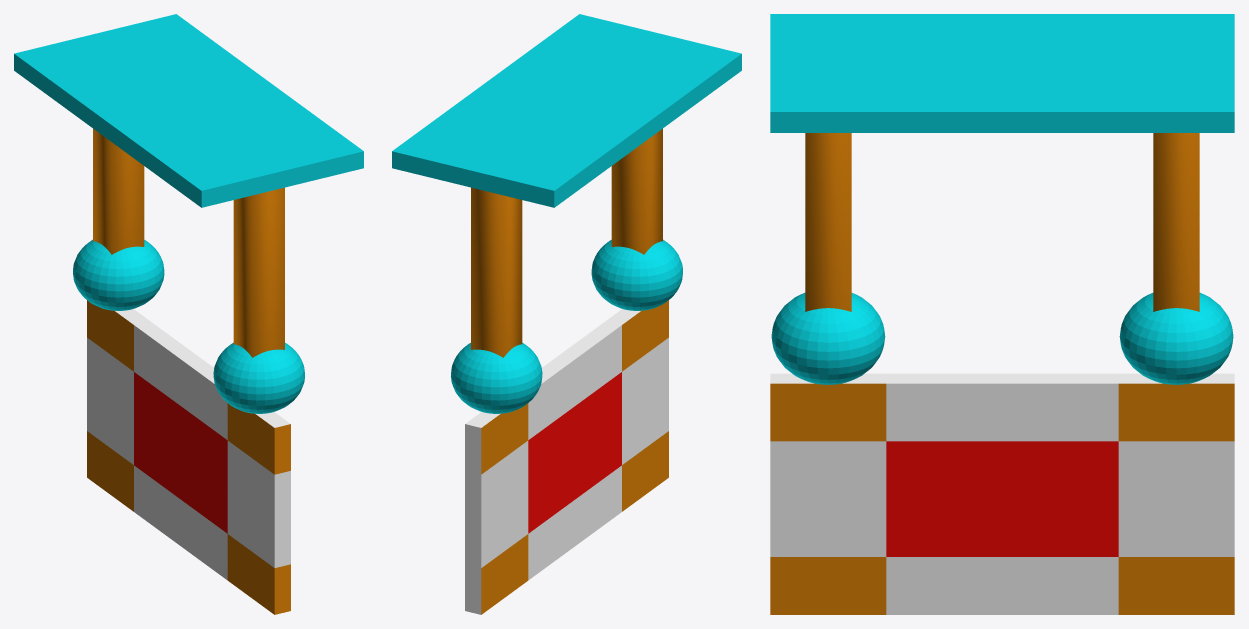
File: obs-3.fbx
3 views of the same model, side by side, from view 1: azimuth 30°, elevation 25°; view 2: azimuth 150°, elevation 25°; view 3: azimuth 270°, elevation 25° (orthographic). The views are drawn at different scales.
Parts seen in each view (by area): view 1: bo, Cube, Cube.002, Cube.001, Sphere R, Sphere l; view 2: bo, Cube, Cube.001, Cube.002, Sphere l, Sphere R; view 3: bo, Cube, Cube.001, Cube.002, Sphere l, Sphere R.
Part boxes in pixels (x1,y1,x2,y2): bo: (87,300,290,614); Cube: (14,14,363,207); Cube.002: (233,187,284,357); Cube.001: (93,128,144,254); Sphere R: (213,342,304,413); Sphere l: (73,239,164,310); bo: (465,300,668,614); Cube: (392,14,741,207); Cube.001: (471,187,522,357); Cube.002: (611,128,662,254); Sphere l: (451,342,542,413); Sphere R: (591,239,682,310); bo: (770,373,1234,614); Cube: (770,14,1234,132); Cube.001: (1153,133,1199,311); Cube.002: (805,133,851,311); Sphere l: (1119,292,1233,384); Sphere R: (771,292,885,384).
Size of what is drawn, in the model's own units: 200 by 520 by 400.
